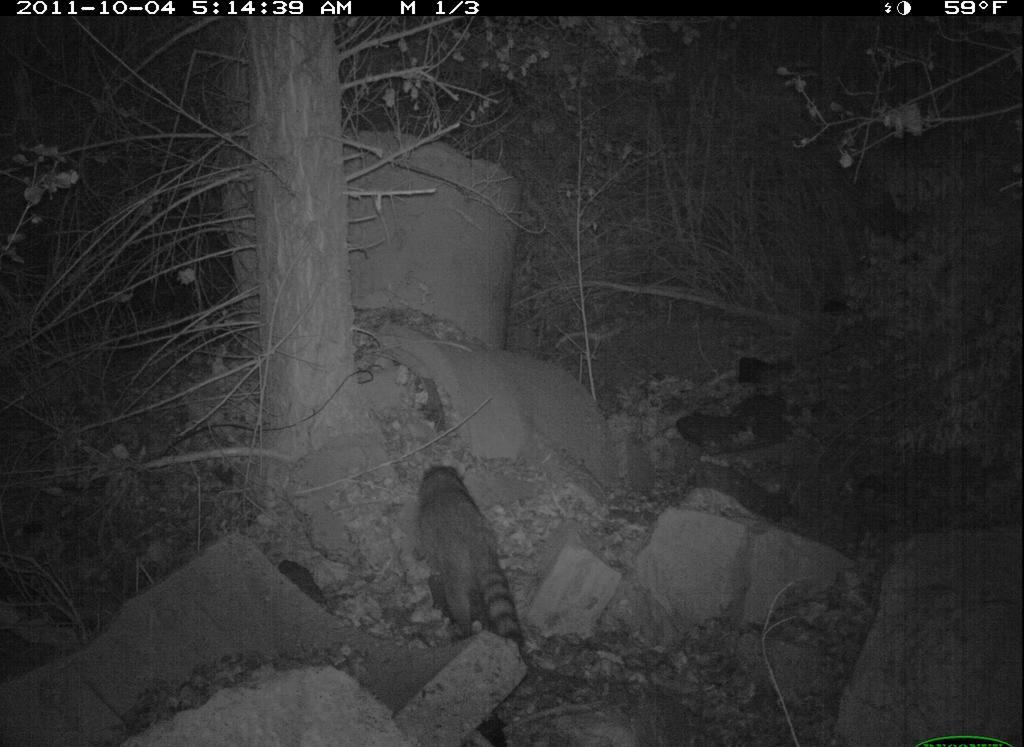raccoon: (391, 438, 547, 657)
